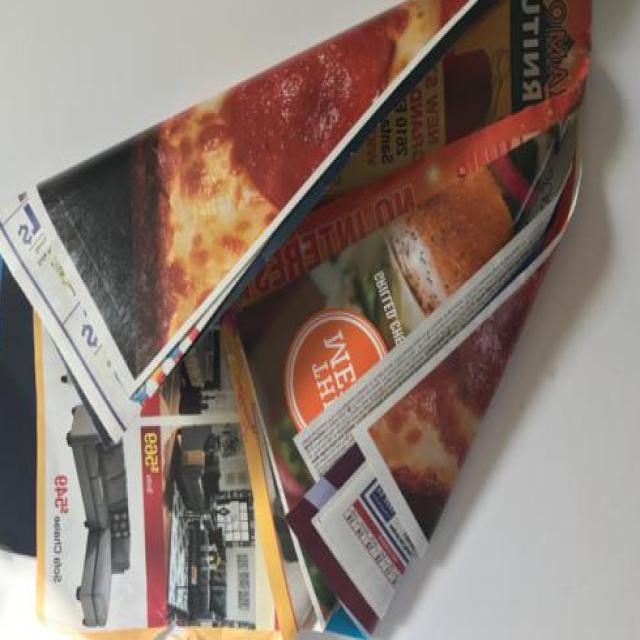kertas: (0, 0, 592, 640)
